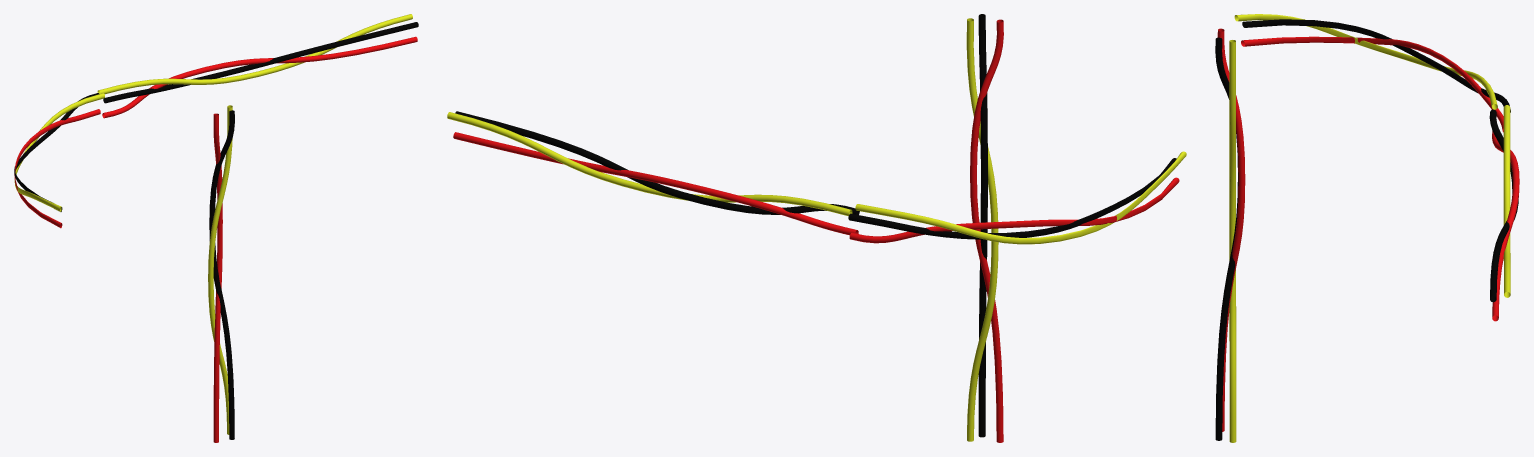
The model's file is fili.fbx.
3 renders of one model, left to right at view 1: azimuth 30°, elevation 25°; view 2: azimuth 150°, elevation 25°; view 3: azimuth 270°, elevation 25°, orthographic. The views are drawn at different scales.
Parts seen in each view (by area): view 1: BezierCurve.002, BezierCurve.003, BezierCurve.001; view 2: BezierCurve.003, BezierCurve.002, BezierCurve.001; view 3: BezierCurve.003, BezierCurve.001, BezierCurve.002.
Part boxes in pixels (x1,y1,x2,y2): BezierCurve.002: (97, 14, 418, 118); BezierCurve.003: (208, 105, 234, 442); BezierCurve.001: (14, 93, 104, 228); BezierCurve.003: (966, 14, 1003, 442); BezierCurve.002: (447, 111, 859, 235); BezierCurve.001: (848, 151, 1186, 244); BezierCurve.003: (1215, 28, 1245, 442); BezierCurve.001: (1234, 14, 1510, 132); BezierCurve.002: (1489, 105, 1519, 321).
Size of the model in its own units: 586 by 393 by 271.
